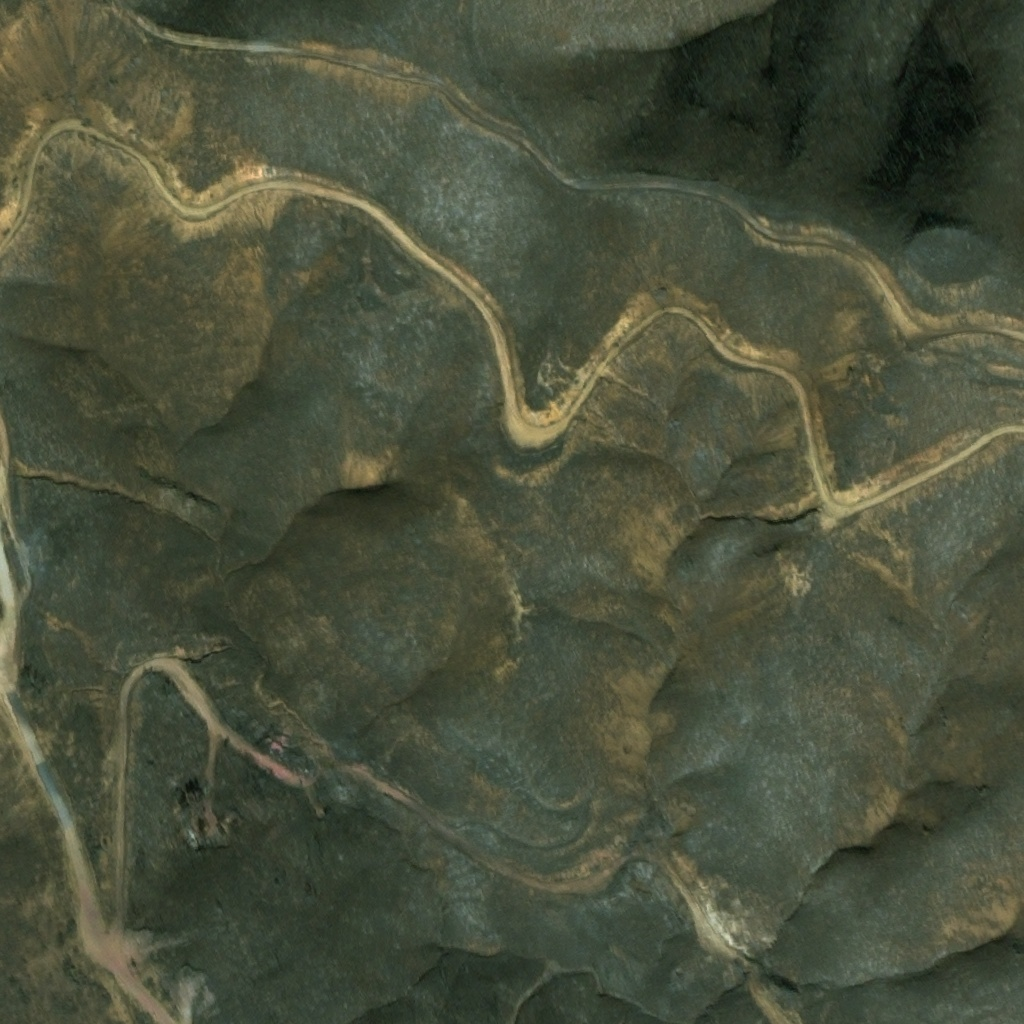4 un-classified: (182, 820, 195, 837)
